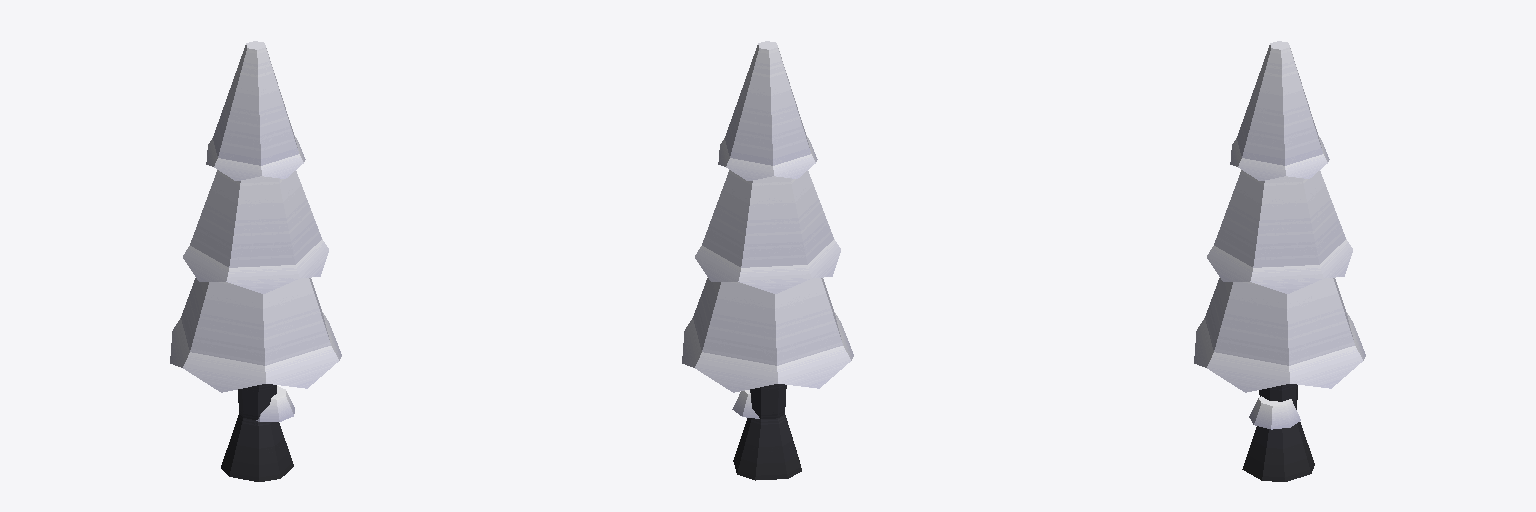
The picture shows the model from 3 angles: view 1: azimuth 30°, elevation 25°; view 2: azimuth 150°, elevation 25°; view 3: azimuth 270°, elevation 25°; orthographic projection.
Parts seen in each view (by area): view 1: tree.023; view 2: tree.023; view 3: tree.023.
Boxes of the visible parts, box(x1,y1,x2,y2) form: tree.023: box(170, 41, 341, 481); tree.023: box(682, 41, 853, 480); tree.023: box(1194, 41, 1365, 481).
Size of the model in its own units: 1.35 by 3.47 by 1.29.
Materials: 1 (1 with a texture image).